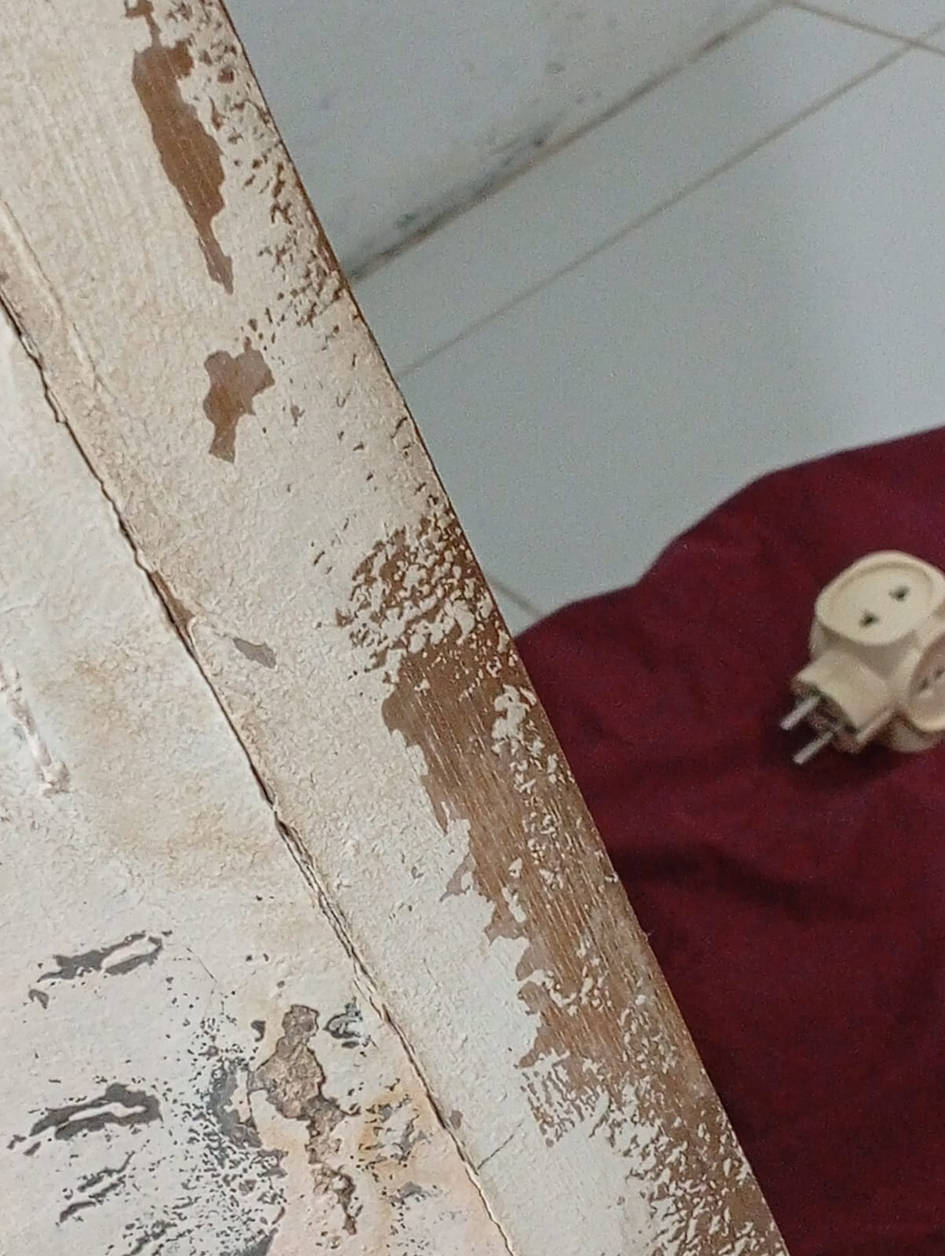Colokan: (765, 516, 945, 797)
